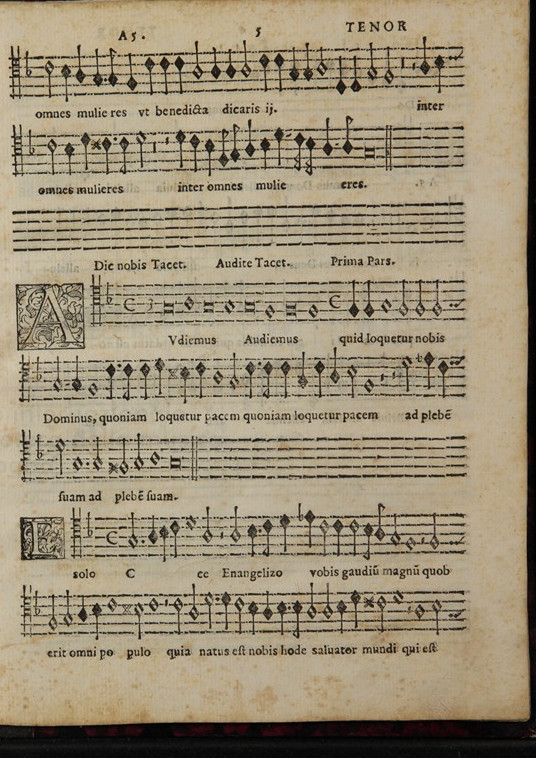Imin: (98, 519, 124, 554)
c clef_5: (67, 506, 85, 564)
custos_9: (449, 527, 470, 554)
flat_3: (294, 497, 305, 526)
flat_6: (82, 507, 95, 543)
fusa_5: (258, 505, 276, 562)
fusa_6: (359, 515, 375, 565)
fusa_7: (372, 495, 388, 548)
minim rest: (215, 510, 226, 563)
minim_5: (347, 513, 360, 559), (317, 514, 330, 555)
minim_7: (197, 500, 215, 554), (227, 499, 242, 547)
minim_8: (124, 505, 138, 552), (388, 508, 401, 550)
minim_9: (427, 507, 441, 552)
point: (191, 509, 204, 524), (135, 533, 147, 548), (253, 523, 264, 538)
semibreve rest: (417, 505, 427, 559)
semibreve_4: (177, 509, 199, 536)
semibreve_9: (402, 532, 419, 557)
semiminim_3: (304, 504, 317, 553)
semiminim_4: (277, 508, 291, 557)
semiminim_5: (331, 510, 344, 558), (168, 514, 180, 561)
semiminim_6: (244, 514, 258, 561), (158, 519, 169, 564)
semiminim_7: (146, 509, 159, 549)
